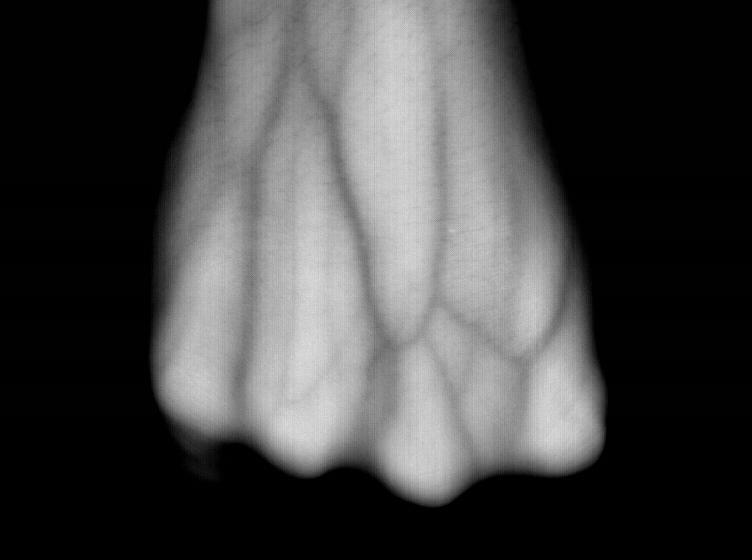Vein: (299, 64, 449, 350)
